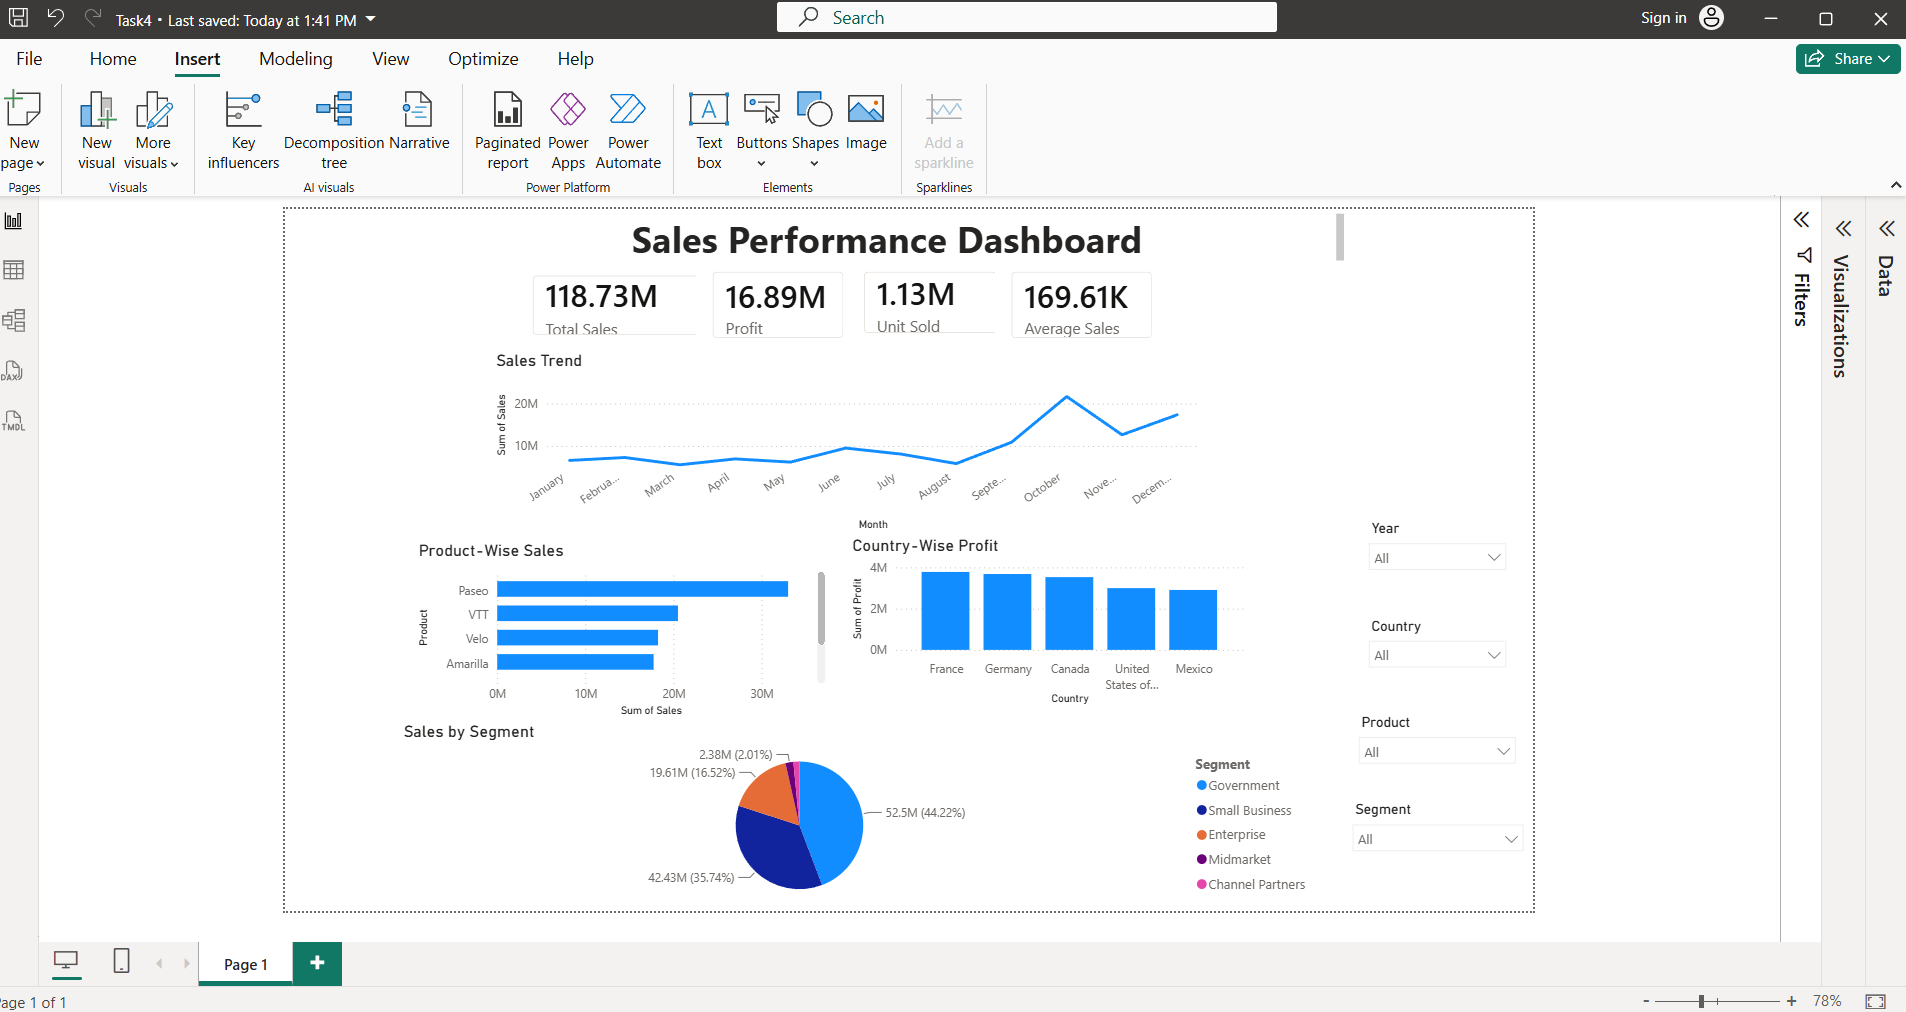

The dashboard page shown, as its layout file describes it:
{"tool":"powerbi","page":{"name":"Page 1","canvas":[1280,720],"ordinal":0},"visuals":[{"type":"lineChart","title":"Sales Trend","fields":{"Category":["financials.Date.Variation.Date Hierarchy.Month"],"Y":["Sum(financials. Sales)"]},"box":[211.4,144.3,731.4,190],"z":0},{"type":"clusteredBarChart","title":" Product-Wise Sales","fields":{"Category":["financials.Product"],"Y":["Sum(financials. Sales)"]},"box":[131.4,340,427.1,185.7],"z":1},{"type":"clusteredColumnChart","title":"Country-Wise Profit","fields":{"Category":["financials.Country"],"Y":["Sum(financials.Profit)"]},"box":[577.1,334.3,411.4,178.6],"z":2},{"type":"pieChart","title":"  Sales by Segment","fields":{"Category":["financials.Segment"],"Y":["Sum(financials. Sales)"]},"box":[117.1,525.7,944.3,194.3],"z":3},{"type":"cardVisual","fields":{"Data":["Sum(financials. Sales)"]},"box":[237.1,51.4,214.3,95.7],"z":4},{"type":"cardVisual","fields":{"Data":["Sum(financials.Profit)"]},"box":[421.4,47.1,168.6,102.9],"z":5},{"type":"cardVisual","fields":{"Data":["Sum(financials.Units Sold)"]},"box":[577.1,47.1,170,97.1],"z":6},{"type":"cardVisual","fields":{"Data":["Avg(financials. Sales)"]},"box":[728.6,47.1,178.6,102.9],"z":7},{"type":"slicer","fields":{"Values":["financials.Year"]},"box":[1101.4,314.3,161.4,92.9],"z":8},{"type":"textbox","box":[152.9,0,938.6,58.6],"z":9},{"type":"slicer","fields":{"Values":["financials.Country"]},"box":[1101.4,414.3,161.4,85.7],"z":10},{"type":"slicer","fields":{"Values":["financials.Product"]},"box":[1091.4,512.9,181.4,85.7],"z":11},{"type":"slicer","fields":{"Values":["financials.Segment"]},"box":[1084.3,602.9,195.7,104.3],"z":12}]}

Visuals, with their boxes on the page's 1280x720 design canvas (x1, y1, x2, y2). These are canvas units, not pixel positions in the 1906x1012 screenshot, which may show the page scaled, cropped or inside an application window:
"Sales Trend" lineChart: 211/144/943/334
" Product-Wise Sales" clusteredBarChart: 131/340/558/526
"Country-Wise Profit" clusteredColumnChart: 577/334/988/513
"  Sales by Segment" pieChart: 117/526/1061/720
cardVisual - Sum(financials. Sales): 237/51/451/147
cardVisual - Sum(financials.Profit): 421/47/590/150
cardVisual - Sum(financials.Units Sold): 577/47/747/144
cardVisual - Avg(financials. Sales): 729/47/907/150
slicer - financials.Year: 1101/314/1263/407
textbox: 153/0/1092/59
slicer - financials.Country: 1101/414/1263/500
slicer - financials.Product: 1091/513/1273/599
slicer - financials.Segment: 1084/603/1280/707
